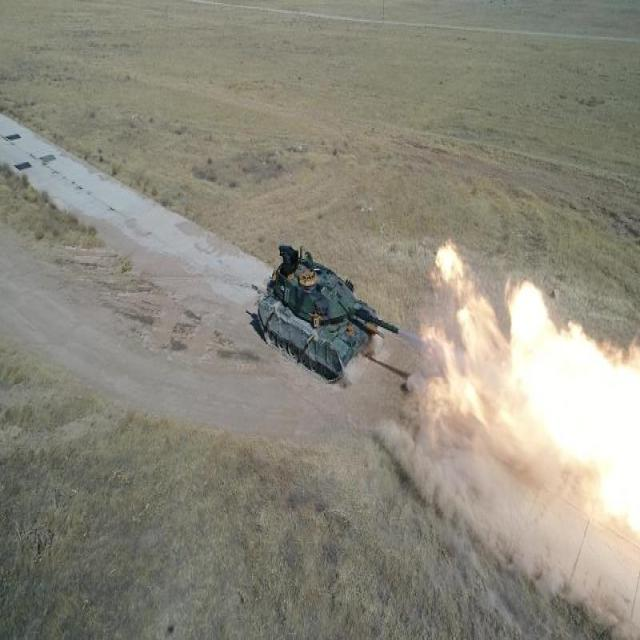tank: (251, 243, 400, 387)
